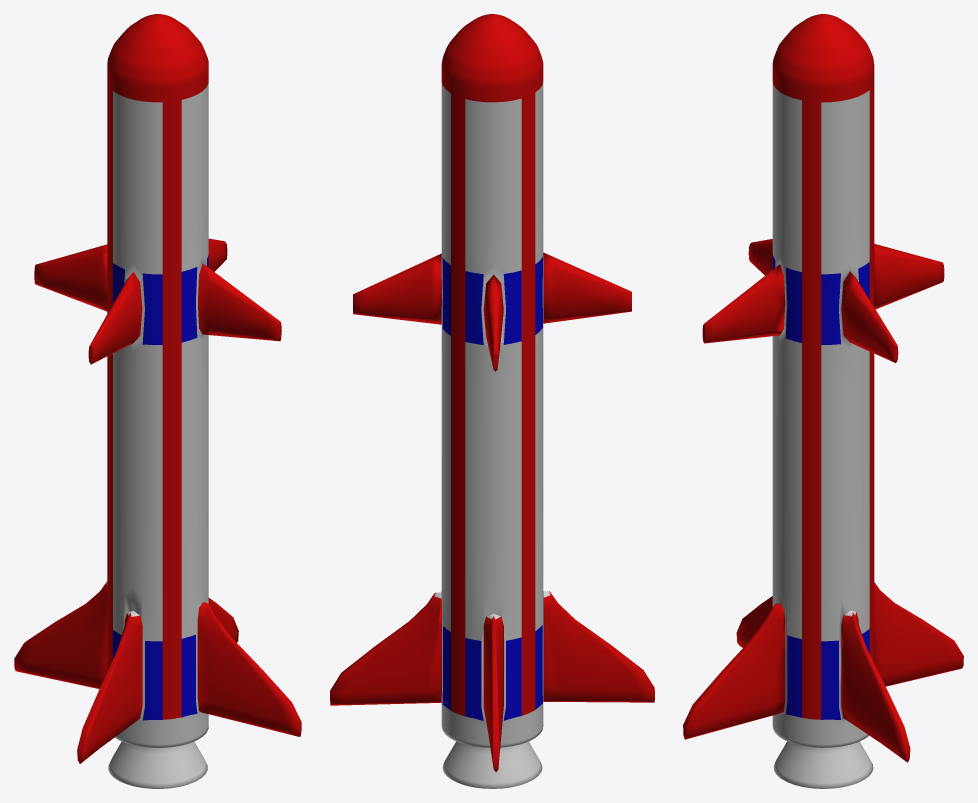
File: rocket2.obj
3 renders of one model, left to right at view 1: azimuth 30°, elevation 25°; view 2: azimuth 150°, elevation 25°; view 3: azimuth 270°, elevation 25°, orthographic.
Visible parts, largest first — view 1: rocket_Cylinder; view 2: rocket_Cylinder; view 3: rocket_Cylinder.
Part boxes in pixels (bbox=[...]): rocket_Cylinder: bbox=[14, 14, 301, 788]; rocket_Cylinder: bbox=[330, 14, 654, 788]; rocket_Cylinder: bbox=[683, 14, 963, 788].
Bounding box in the file's own units: 0.3523 × 1.04 × 0.3523.
